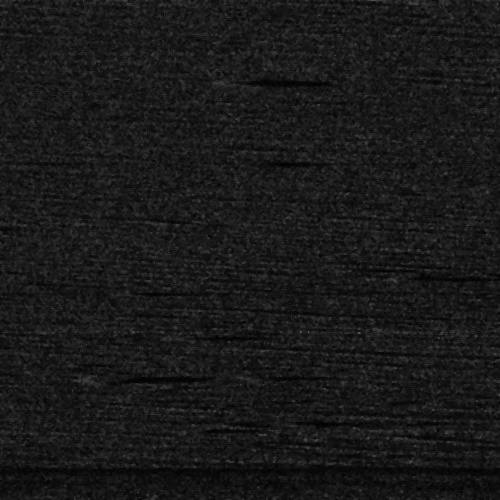object: (206, 63, 247, 94), (65, 373, 118, 378), (222, 372, 275, 377), (129, 280, 140, 301), (368, 273, 389, 278)
shadow: (226, 63, 329, 94), (135, 280, 211, 301), (92, 373, 221, 378), (379, 273, 497, 278), (249, 372, 364, 377), (179, 334, 260, 335)
